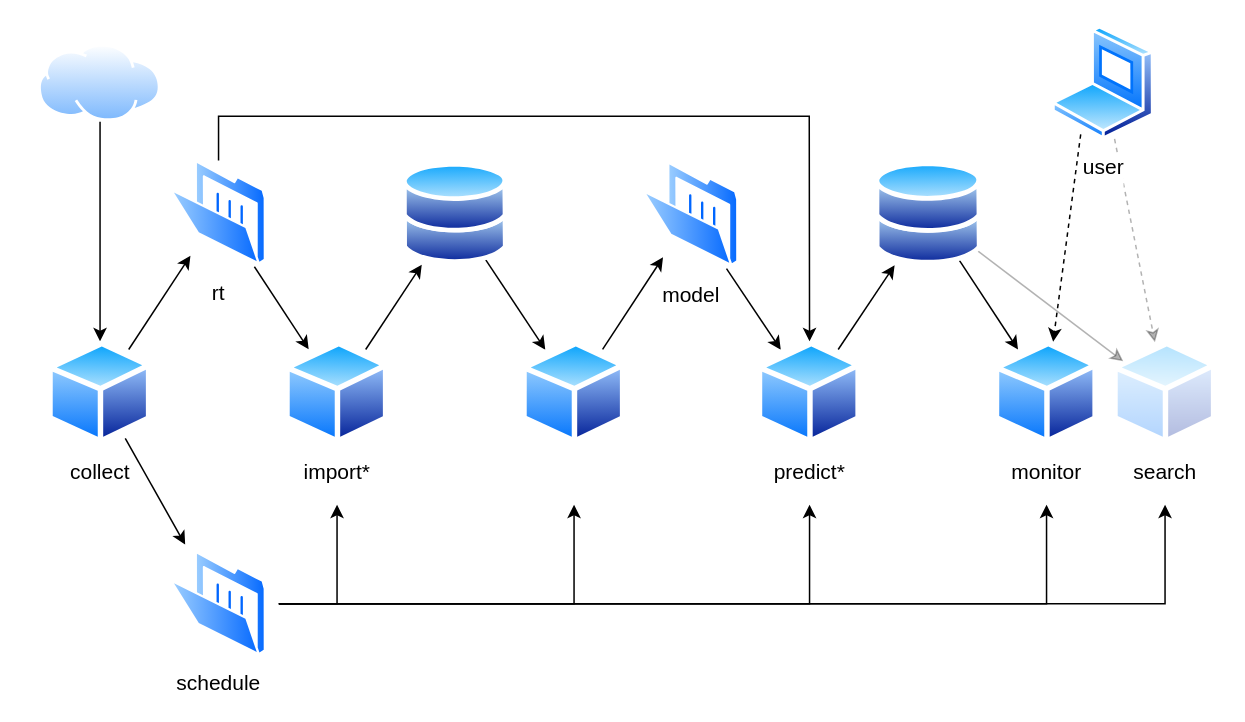
The diagram is 1245 pixels wide and 722 high, and some of its shapes have lost their labels. The box of each missing label's shape, as (x1, y1, x2, y2) in pixels:
analyse: (520, 340, 626, 444)
predictions: (874, 160, 982, 266)
records: (402, 161, 508, 265)
VBN Open Data: (38, 44, 161, 121)
